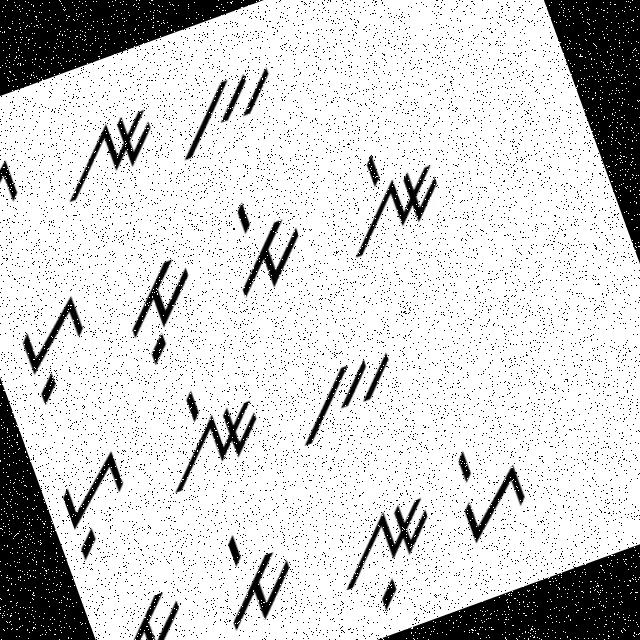he: (436, 425, 556, 560), (0, 126, 46, 244)
hu: (0, 277, 123, 422), (40, 438, 154, 566)
mbe: (202, 180, 321, 312), (194, 514, 318, 639)
mbu: (95, 241, 220, 380), (91, 571, 222, 639)
nda: (37, 92, 175, 214)
nde: (310, 118, 468, 280), (144, 368, 284, 506)
ndu: (320, 486, 460, 620)
